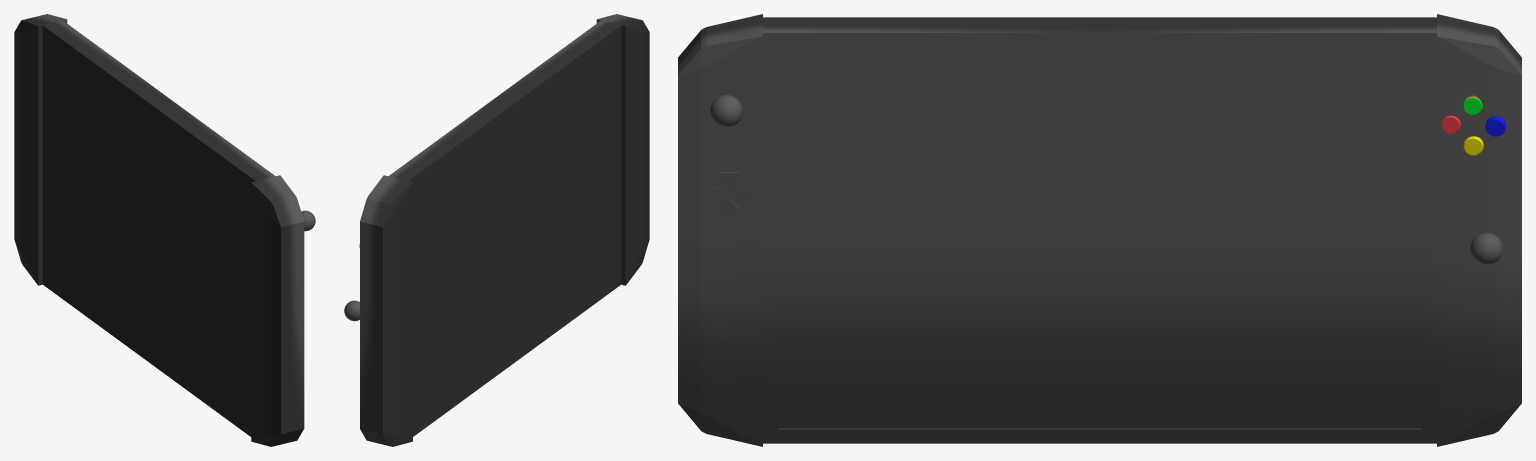
Rendered from Switch.fbx.
The picture shows the model from 3 angles, left to right: view 1: azimuth 30°, elevation 25°; view 2: azimuth 150°, elevation 25°; view 3: azimuth 270°, elevation 25°; orthographic projection. The views are drawn at different scales.
Visible parts, largest first — view 1: Cube; view 2: Cube; view 3: Cube, Cylinder.002, Cube.004, Cylinder.001, Cylinder.003.
Boxes of the visible parts, x1=… form: Cube: x1=14, y1=14, x2=304, y2=446; Cube: x1=360, y1=14, x2=649, y2=446; Cube: x1=678, y1=14, x2=1521, y2=446; Cylinder.002: x1=1441, y1=95, x2=1505, y2=155; Cube.004: x1=710, y1=172, x2=756, y2=222; Cylinder.001: x1=1470, y1=232, x2=1502, y2=264; Cylinder.003: x1=710, y1=95, x2=742, y2=127.
Bounding box in the file's own units: 68.43 × 329 × 613.
